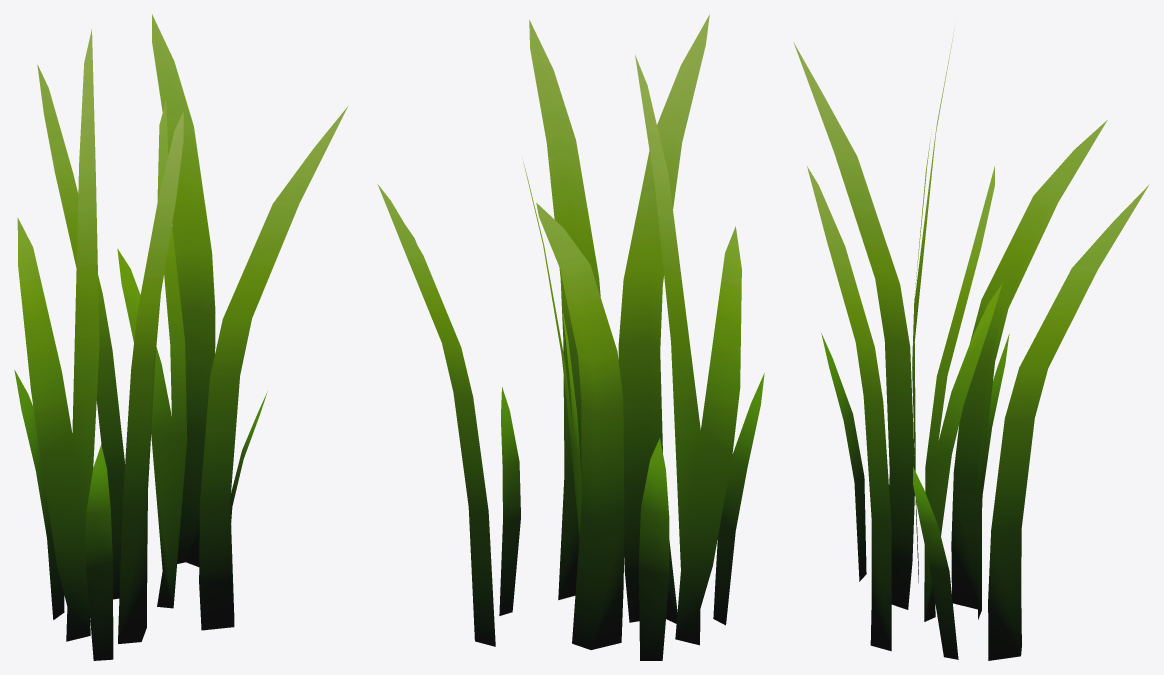
The model's file is grass_common_short.glb.
3 renders of one model, left to right at view 1: azimuth 30°, elevation 25°; view 2: azimuth 150°, elevation 25°; view 3: azimuth 270°, elevation 25°, orthographic. The views are drawn at different scales.
Parts seen in each view (by area): view 1: Grass_Common_Short; view 2: Grass_Common_Short; view 3: Grass_Common_Short.
Part boxes in pixels (bbox=[...]): Grass_Common_Short: bbox=[14, 14, 347, 660]; Grass_Common_Short: bbox=[377, 14, 764, 660]; Grass_Common_Short: bbox=[793, 27, 1149, 660].
Size of the model in its own units: 0.6388 by 1.33 by 0.7373.
Materials: 1 (1 with a texture image).
